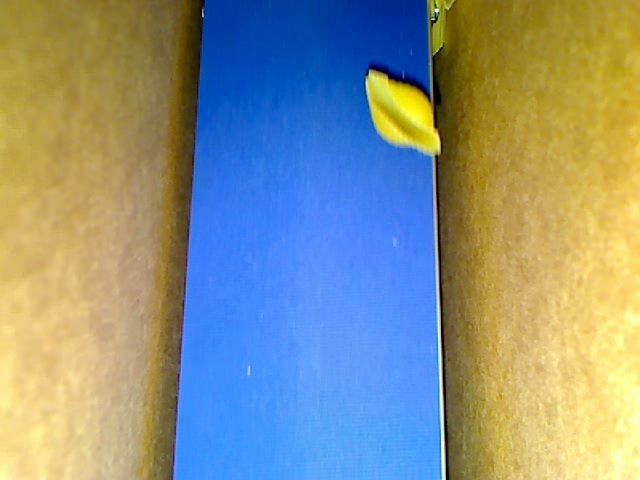penne: (431, 1, 447, 56)
shell: (365, 68, 439, 158)
